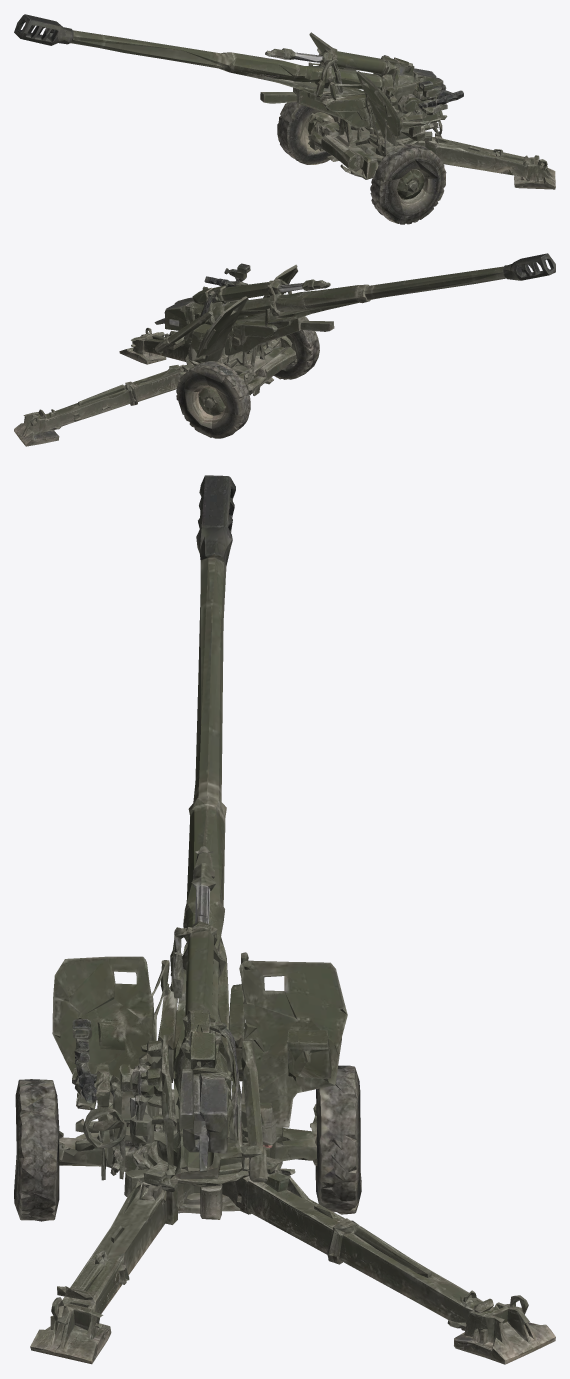
Rendered from artillery.glb.
3 renders of one model, top to bottom at view 1: azimuth 30°, elevation 25°; view 2: azimuth 150°, elevation 25°; view 3: azimuth 270°, elevation 25°, orthographic. The views are drawn at different scales.
Visible parts, largest first — view 1: Mesh_0; view 2: Mesh_0; view 3: Mesh_0.
Part boxes in pixels (x1,y1,x2,y2): Mesh_0: [14, 14, 555, 224]; Mesh_0: [14, 253, 555, 446]; Mesh_0: [14, 475, 555, 1364].
Size of the model in its own units: 1.9 by 0.9083 by 0.981.
1 material, 1 textured.
